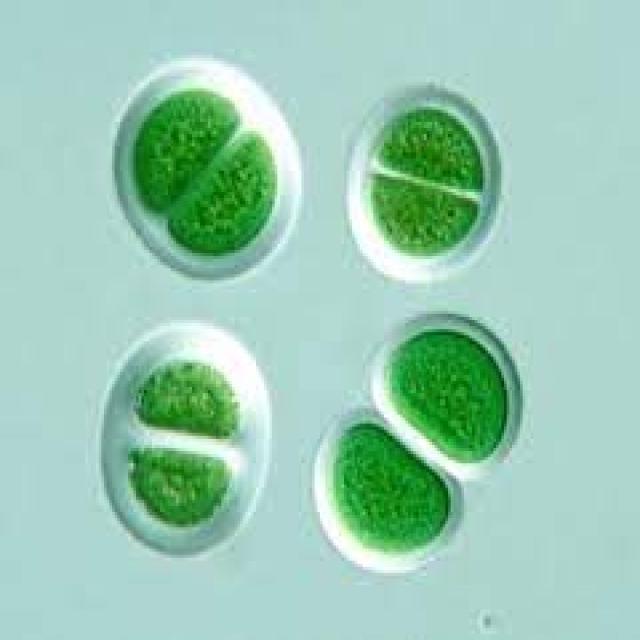Blue Green Algae: (384, 326, 507, 466), (331, 424, 453, 554), (128, 85, 243, 214), (165, 128, 278, 256), (360, 168, 480, 259), (371, 107, 485, 195), (120, 442, 232, 530), (133, 356, 243, 442)
